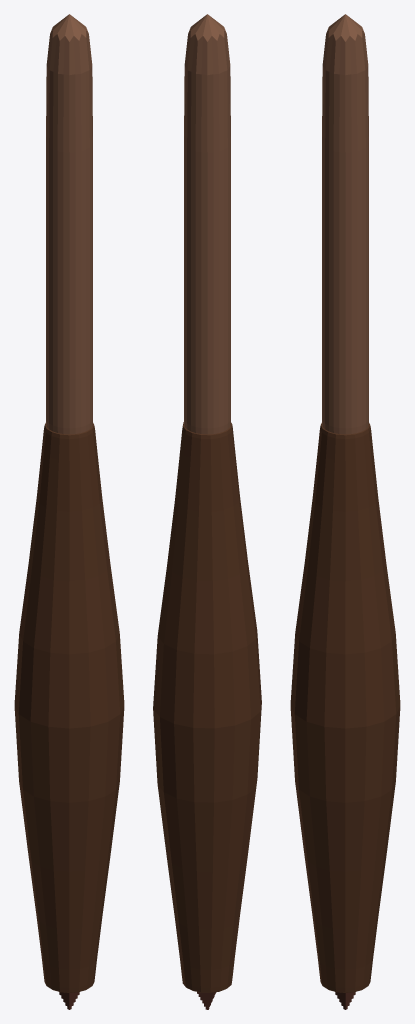
Rendered from Wand 114.glb.
3 views of the same model, side by side, from view 1: azimuth 90°, elevation 25°; view 2: azimuth 210°, elevation 25°; view 3: azimuth 270°, elevation 25° (orthographic).
Visible parts, largest first — view 1: GeneratedWand; view 2: GeneratedWand; view 3: GeneratedWand.
Part boxes in pixels (bbox=[...]): GeneratedWand: bbox=[14, 14, 124, 1009]; GeneratedWand: bbox=[153, 14, 261, 1009]; GeneratedWand: bbox=[290, 14, 400, 1009].
Size of the model in its own units: 0.0499 by 0.4976 by 0.0499.
